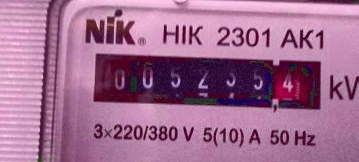0: (111, 65, 127, 91), (140, 64, 154, 89)
2: (195, 64, 209, 89)
3: (223, 62, 237, 87)
4: (280, 67, 295, 94)
5: (250, 64, 265, 91), (167, 63, 182, 89)
screen: (83, 43, 333, 117)
